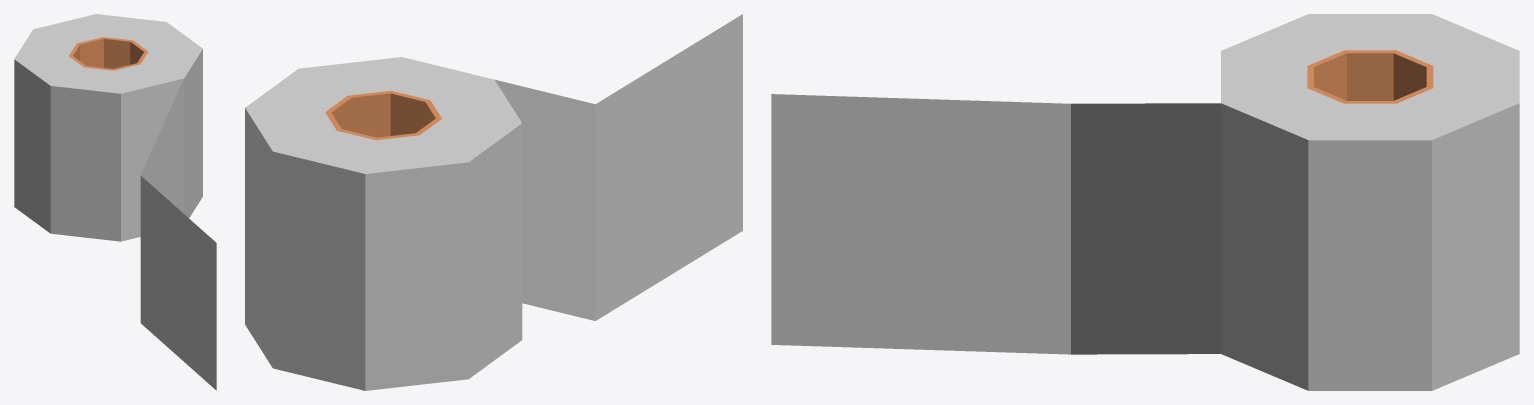
The model's file is toilet paper.fbx.
The picture shows the model from 3 angles, left to right: view 1: azimuth 30°, elevation 25°; view 2: azimuth 150°, elevation 25°; view 3: azimuth 270°, elevation 25°; orthographic projection. The views are drawn at different scales.
Visible parts, largest first — view 1: Cube.002; view 2: Cube.002; view 3: Cube.002.
Part boxes in pixels (x1=…): Cube.002: x1=14, y1=14, x2=216, y2=390; Cube.002: x1=245, y1=14, x2=742, y2=390; Cube.002: x1=771, y1=14, x2=1519, y2=390.
Bounding box in the file's own units: 314 × 376 × 786.
